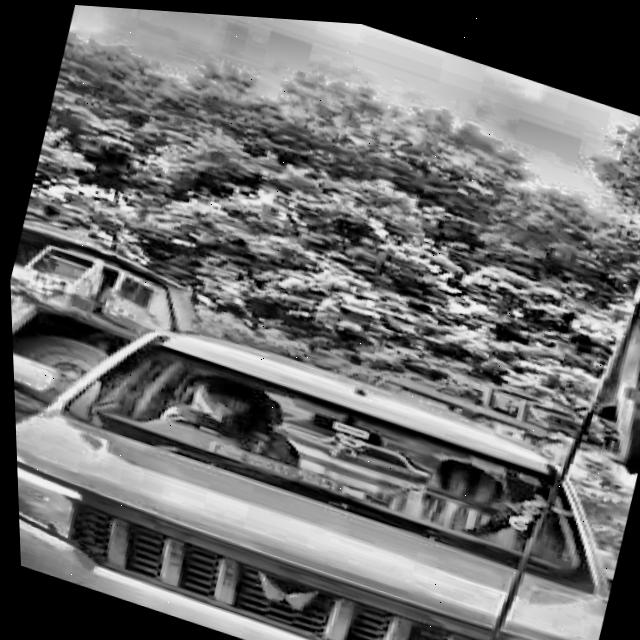light_vehicle: (8, 266, 640, 640)
